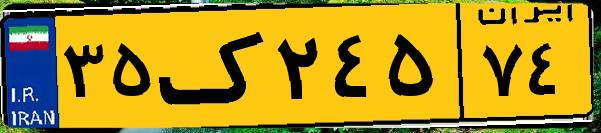2: (270, 28, 330, 110)
3: (57, 26, 110, 100)
4: (330, 28, 385, 110), (525, 38, 570, 115)
5: (385, 28, 445, 110), (110, 28, 158, 98)
7: (475, 38, 525, 113)
ک: (158, 12, 270, 120)
